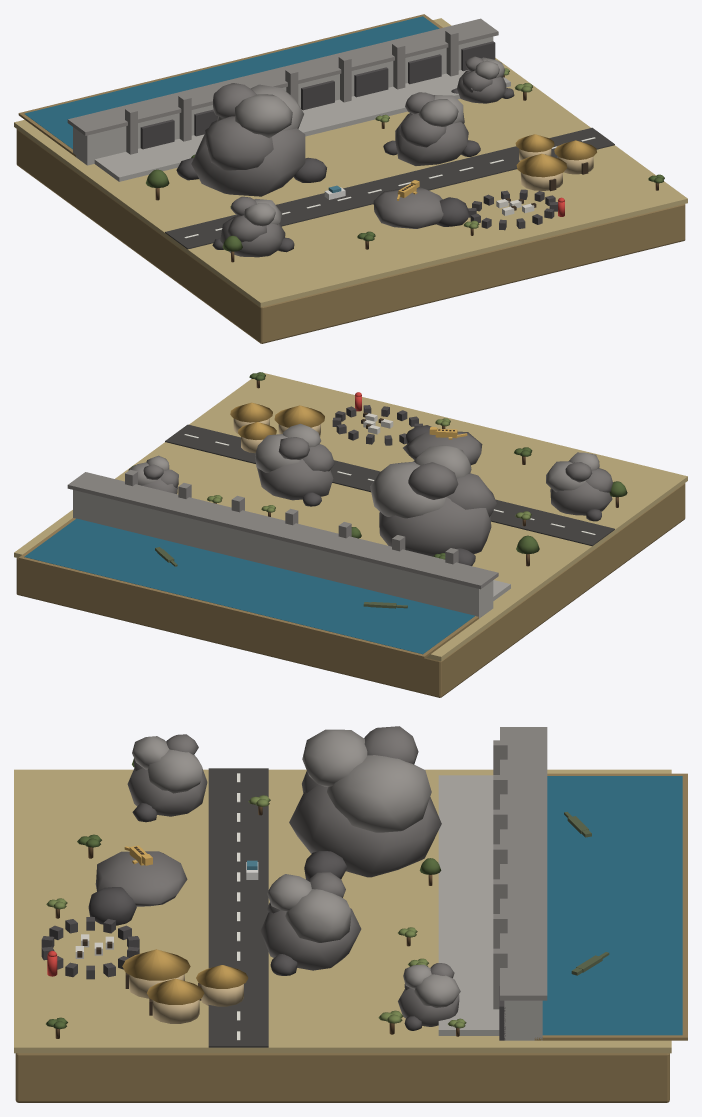
File: jawai_tile.glb
3 views of the same model, one above another, from view 1: azimuth 30°, elevation 25°; view 2: azimuth 150°, elevation 25°; view 3: azimuth 270°, elevation 25° (orthographic). The views are drawn at different scales.
Parts seen in each view (by area): view 1: jawai_tile; view 2: jawai_tile; view 3: jawai_tile.
Boxes of the visible parts, x1,y1,x2,y2 form: jawai_tile: [14, 14, 687, 343]; jawai_tile: [14, 372, 687, 697]; jawai_tile: [14, 726, 687, 1102].
Bounding box in the file's own units: 12 × 3.51 × 12.3.
